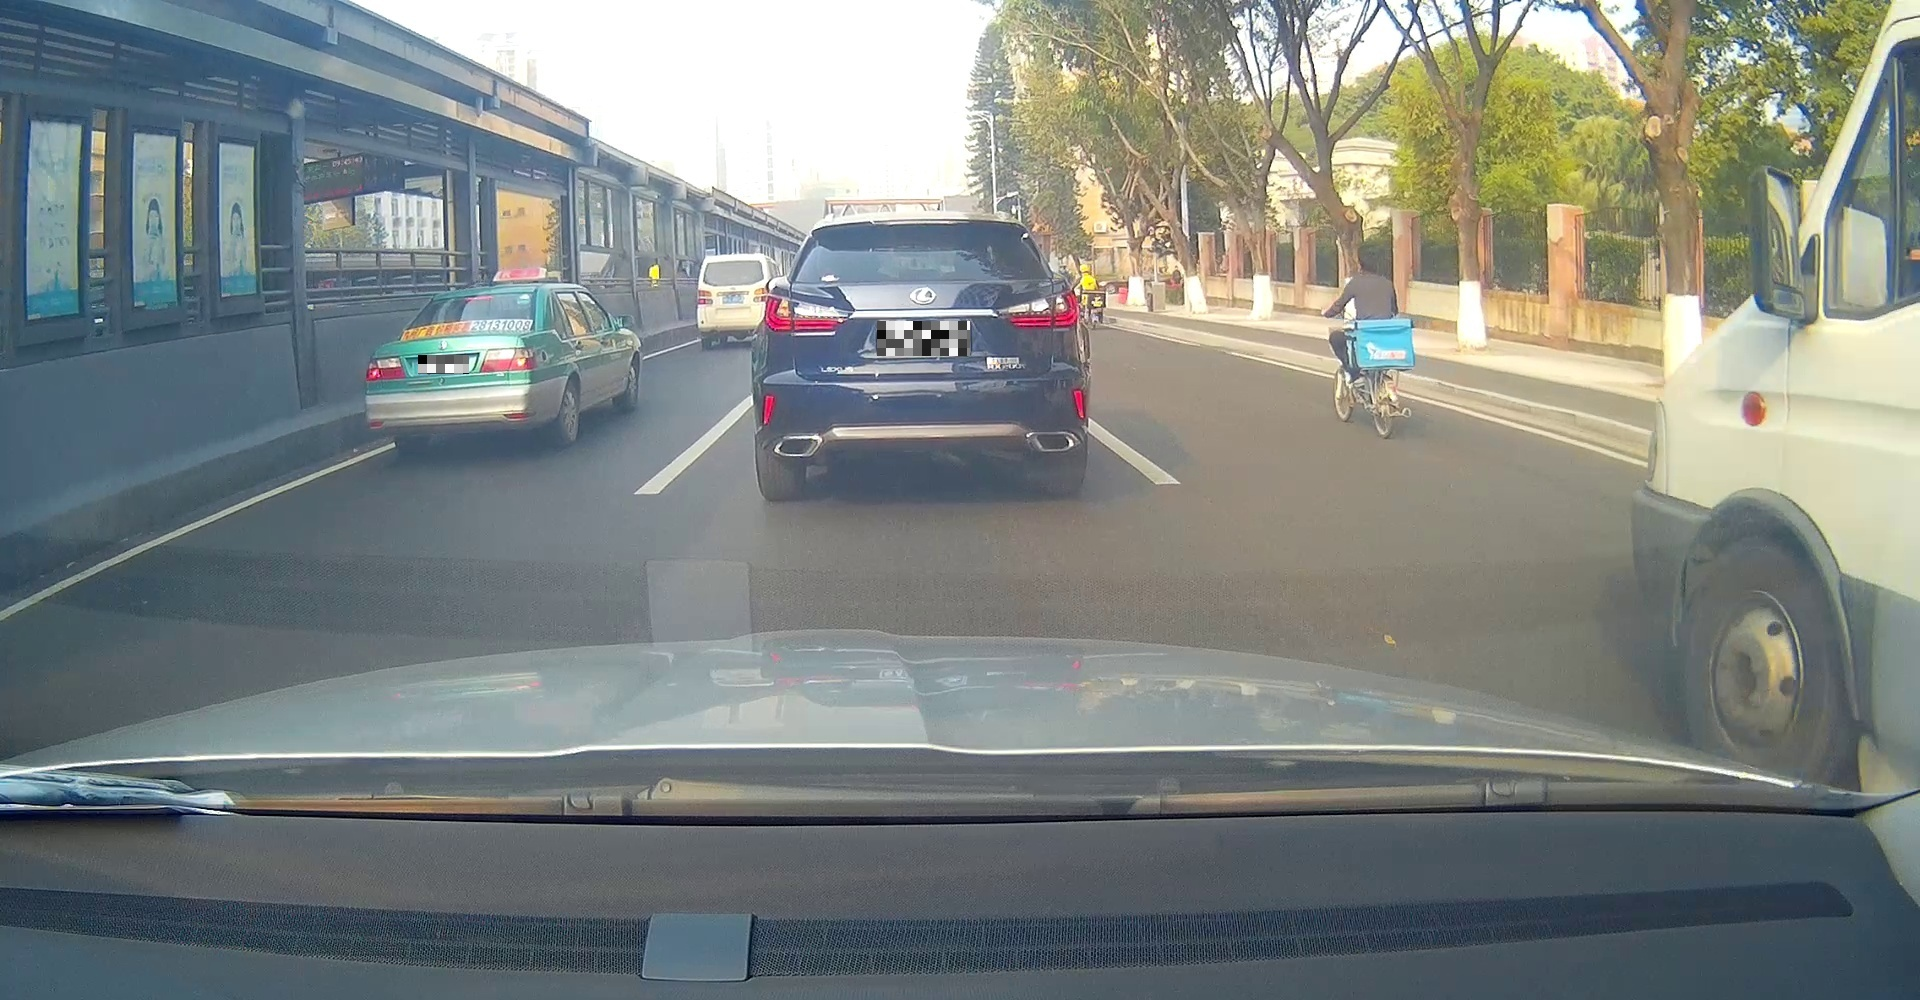L_light: (763, 294, 855, 336), (366, 357, 406, 381)
R_light: (998, 287, 1079, 329), (480, 346, 537, 373)
T_light: (888, 218, 955, 225), (465, 296, 491, 299)
day-brake: (364, 283, 541, 456)
day-no: (757, 211, 1090, 500)
plate_1: (418, 355, 469, 374)
plate_2: (877, 321, 970, 357)
